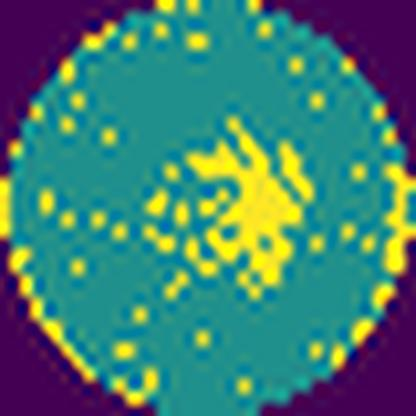Loc: (182, 118, 308, 300)
